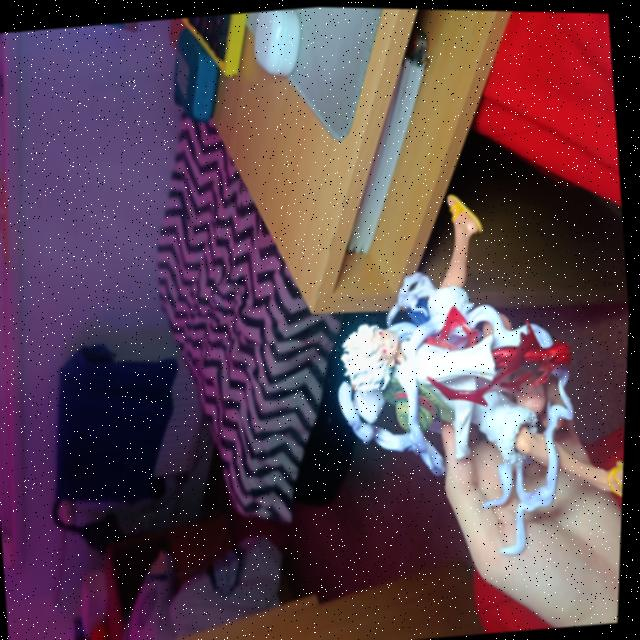luffy: (313, 177, 607, 538)
